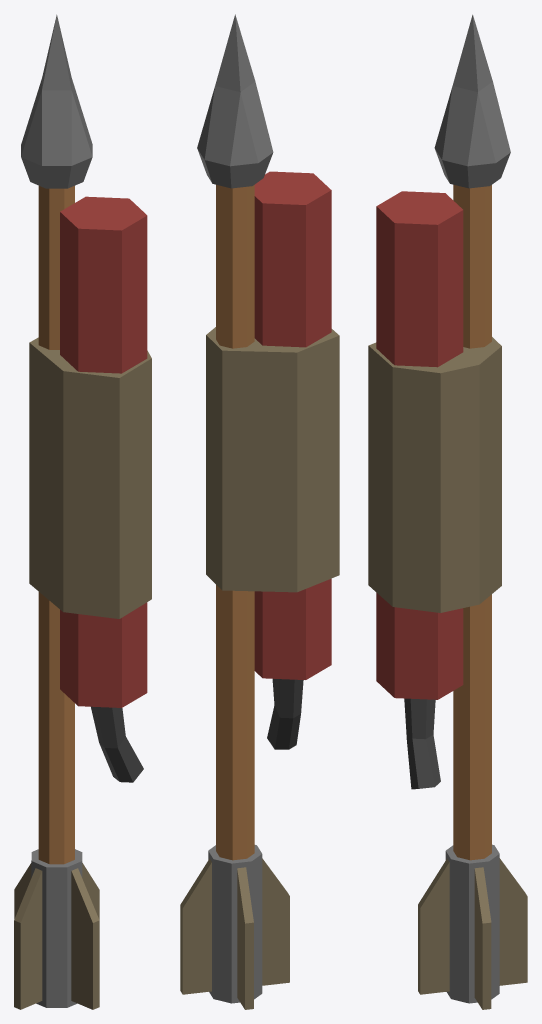
File: ArrowandDynamite.fbx
3 views of the same model, side by side, from view 1: azimuth 90°, elevation 25°; view 2: azimuth 150°, elevation 25°; view 3: azimuth 330°, elevation 25° (orthographic).
Parts seen in each view (by area): view 1: Cylinder.018; view 2: Cylinder.018; view 3: Cylinder.018.
Part boxes in pixels (bbox=[...]): Cylinder.018: bbox=[14, 14, 151, 1009]; Cylinder.018: bbox=[180, 14, 339, 1009]; Cylinder.018: bbox=[368, 14, 527, 1009].
Size of the model in its own units: 39.05 by 332 by 42.17.
